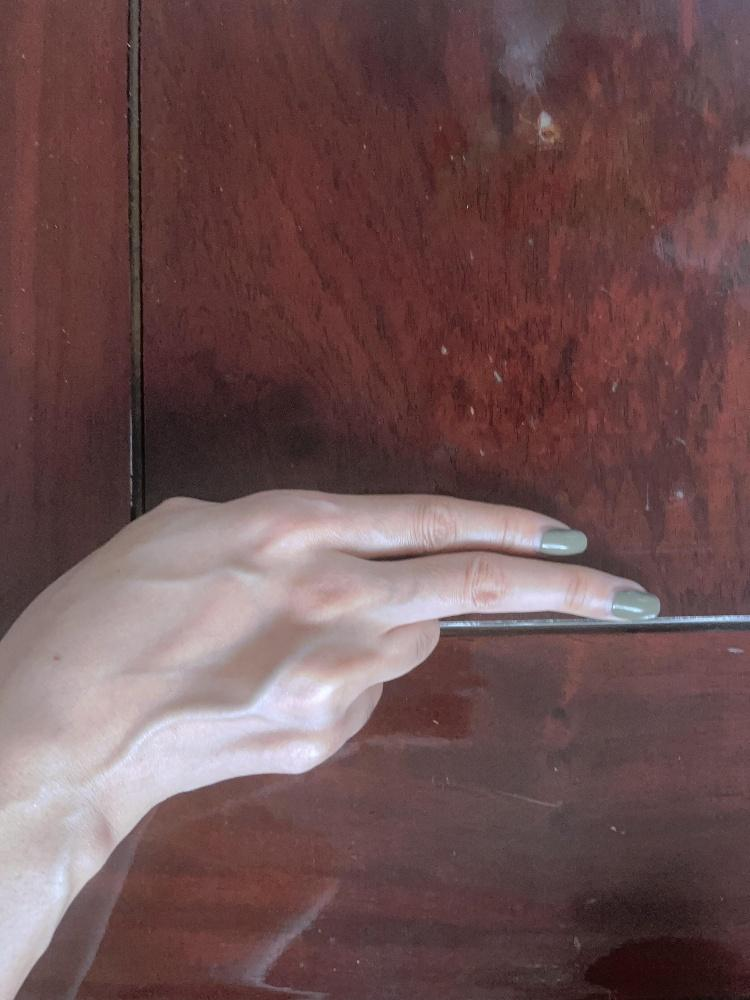h: (51, 485, 659, 784)
